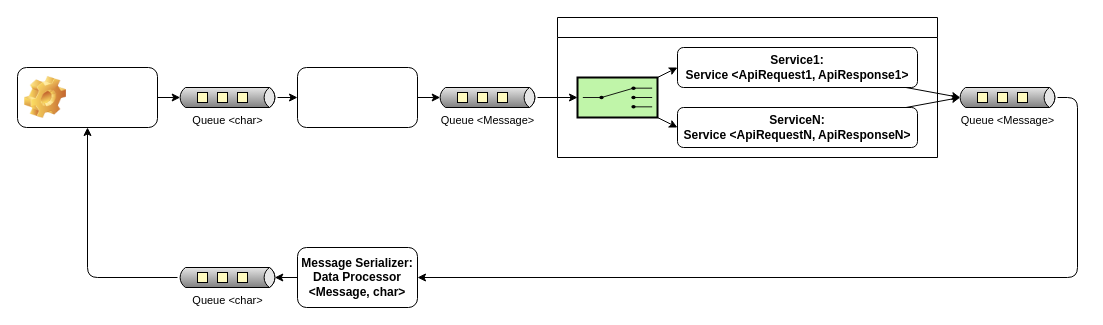
Image size: 1103x325. Some labels were removed from this diagram. The box of each missing label's shape, as (x1, y1, x2, y2) in pixels:
MCU Hardware: (16, 66, 158, 128)
Message Parser: Data Processor <char, Message>: (296, 66, 418, 128)
Message Router: Data Processor <Message, Message>: (556, 16, 938, 158)
